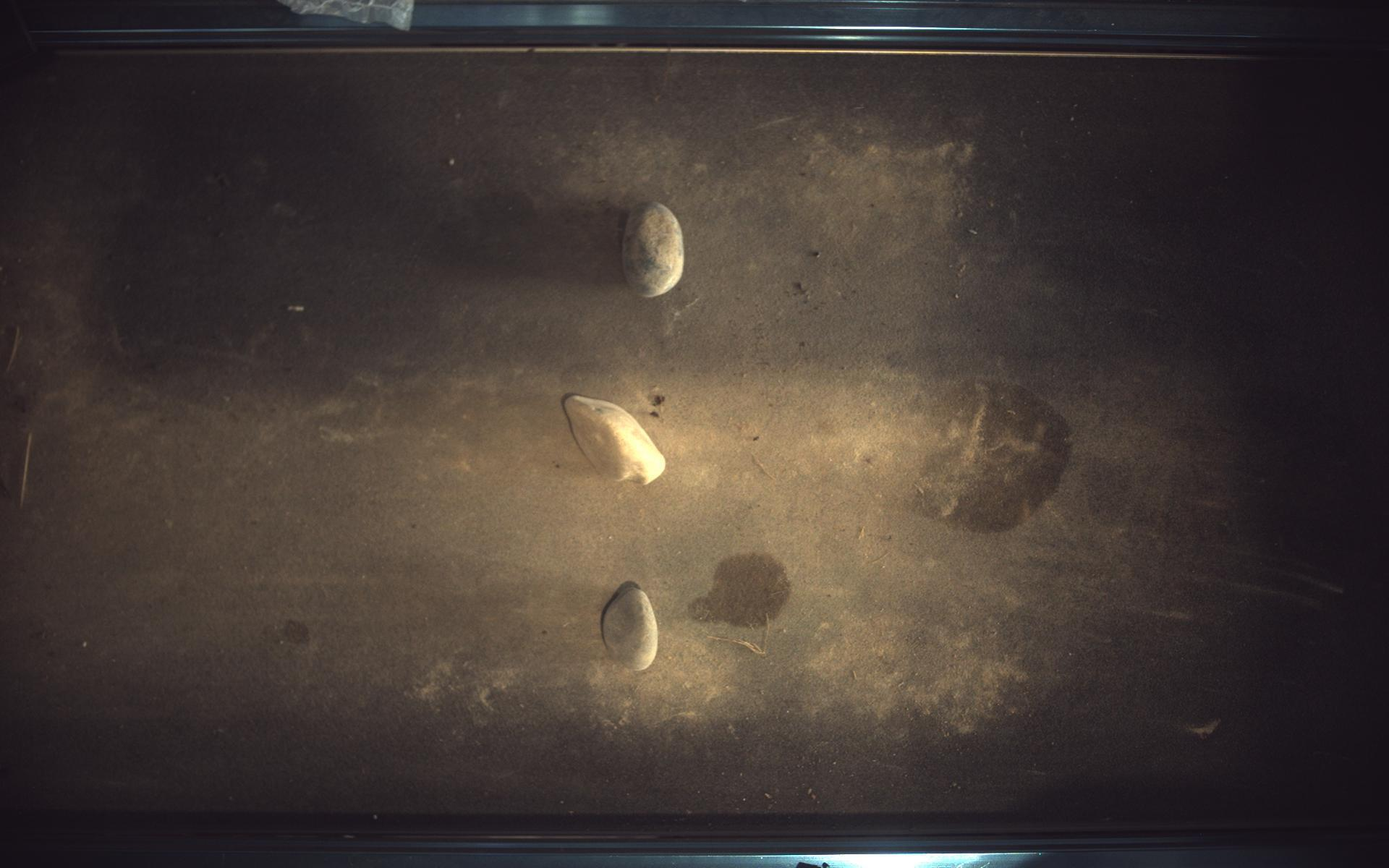stone: (563, 394, 666, 485), (623, 201, 685, 297), (601, 582, 659, 673)
